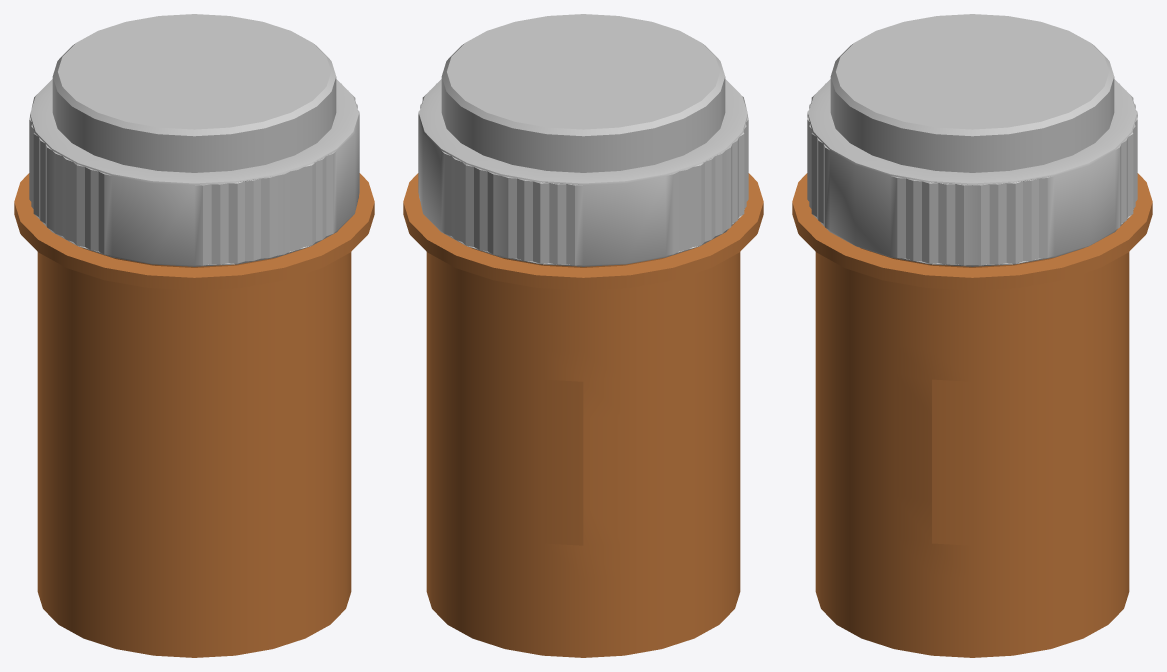
The model's file is Bottle3.fbx.
3 renders of one model, left to right at view 1: azimuth 30°, elevation 25°; view 2: azimuth 150°, elevation 25°; view 3: azimuth 270°, elevation 25°, orthographic.
Parts seen in each view (by area): view 1: 3Bottle_Base, 3Bottle_Top; view 2: 3Bottle_Base, 3Bottle_Top, 3Bottle_Cover; view 3: 3Bottle_Base, 3Bottle_Top, 3Bottle_Cover.
Boxes of the visible parts, left/top/right/bottom form: 3Bottle_Base: left=14, top=173, right=374, bottom=657; 3Bottle_Top: left=29, top=14, right=359, bottom=266; 3Bottle_Base: left=403, top=173, right=763, bottom=657; 3Bottle_Top: left=418, top=14, right=748, bottom=266; 3Bottle_Cover: left=426, top=316, right=583, bottom=545; 3Bottle_Base: left=792, top=173, right=1152, bottom=657; 3Bottle_Top: left=807, top=14, right=1137, bottom=266; 3Bottle_Cover: left=932, top=316, right=1129, bottom=545.
Bounding box in the file's own units: 3.79 × 6.03 × 3.79.
